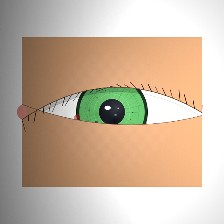hemorrhage_spot: (66, 88, 159, 162)
